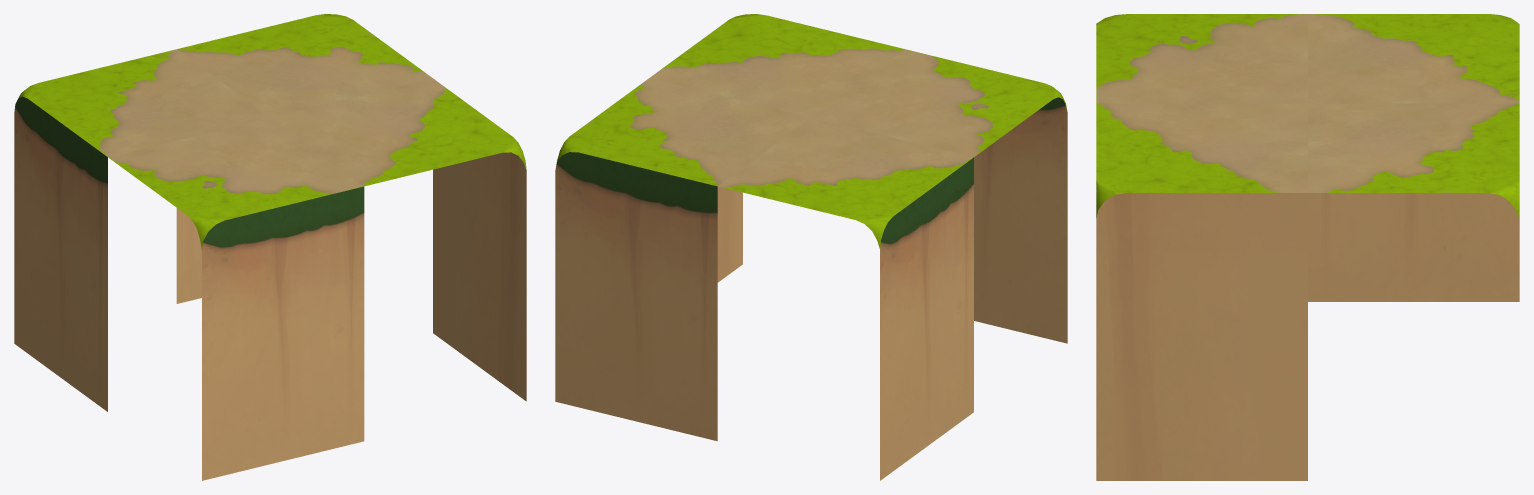
Rendered from TM_Ground_Corner.fbx.
3 renders of one model, left to right at view 1: azimuth 30°, elevation 25°; view 2: azimuth 150°, elevation 25°; view 3: azimuth 270°, elevation 25°, orthographic. The views are drawn at different scales.
Parts seen in each view (by area): view 1: Cube.062, Cube.057, Cube.061, Cube.060; view 2: Cube.060, Cube.057, Cube.062, Cube.061; view 3: Cube.061, Cube.057, Cube.060, Cube.062.
Part boxes in pixels (bbox=[...]): Cube.062: bbox=[108, 118, 364, 480]; Cube.057: bbox=[14, 49, 269, 411]; Cube.061: bbox=[271, 78, 526, 401]; Cube.060: bbox=[176, 14, 432, 303]; Cube.060: bbox=[555, 78, 810, 441]; Cube.057: bbox=[718, 118, 973, 480]; Cube.062: bbox=[812, 49, 1067, 343]; Cube.061: bbox=[649, 14, 904, 282]; Cube.061: bbox=[1096, 103, 1307, 480]; Cube.057: bbox=[1308, 14, 1519, 301]; Cube.060: bbox=[1308, 103, 1519, 218]; Cube.062: bbox=[1096, 14, 1307, 103].
Bounding box in the file's own units: 8 × 6 × 8.
